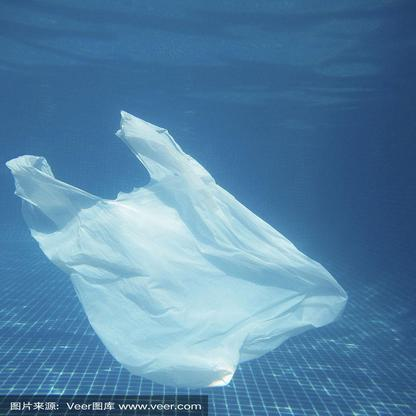plastic bag: (5, 108, 347, 387)
